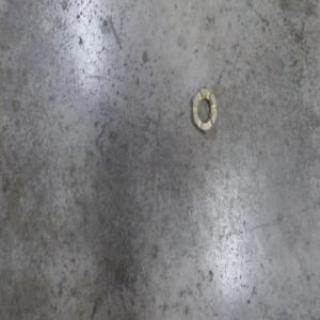Nuttrack_idkeyframe: (191, 81, 216, 133)
